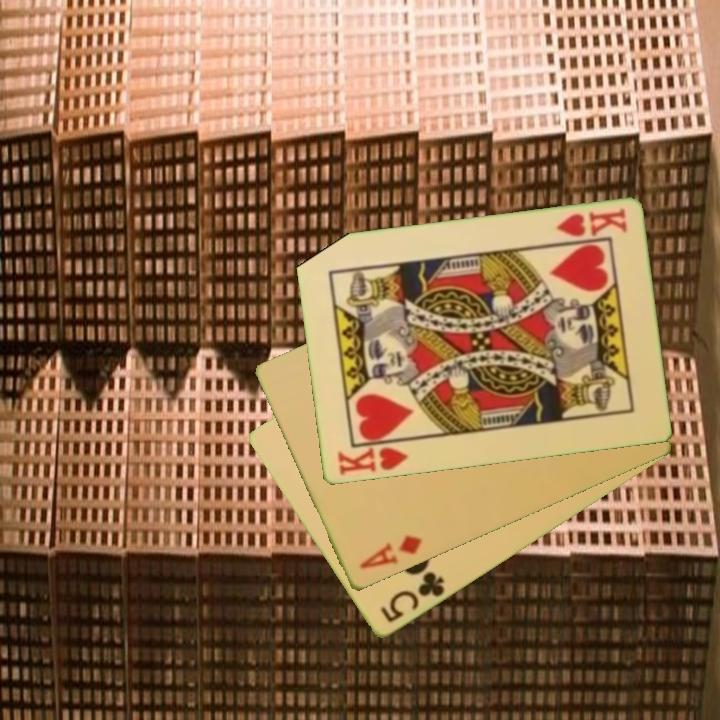5c: (376, 568, 448, 626)
Ad: (355, 532, 425, 573)
Kh: (333, 436, 413, 479), (552, 204, 630, 241)
